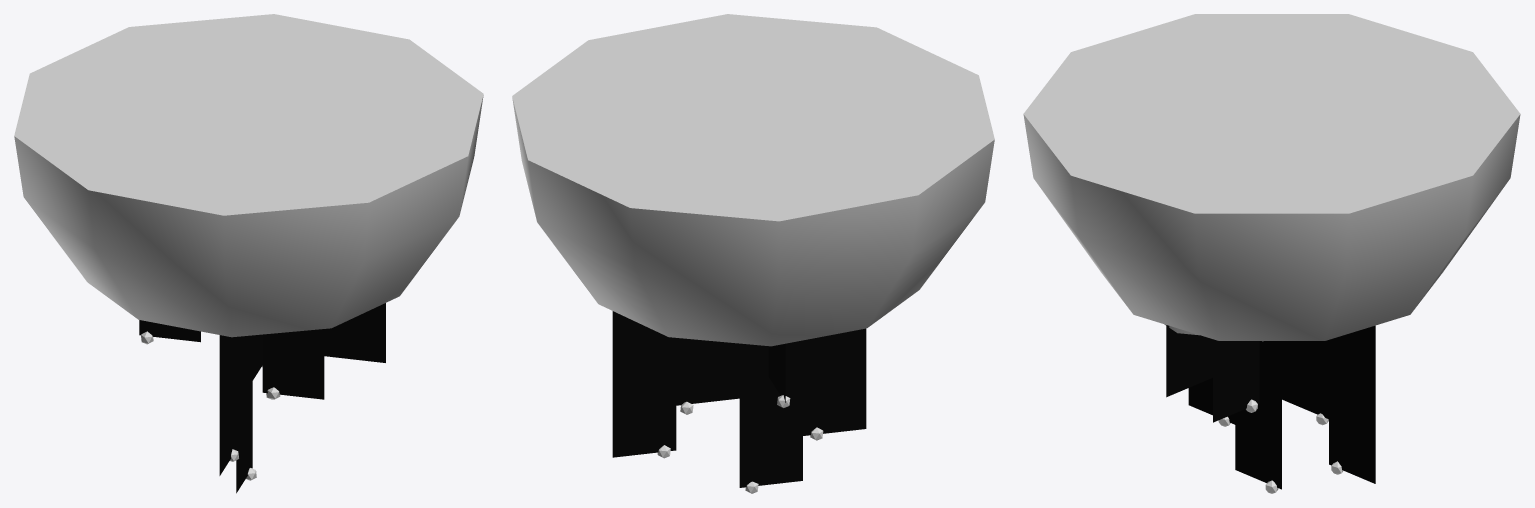
Rendered from MicroIsland.fbx.
The picture shows the model from 3 angles, left to right: view 1: azimuth 30°, elevation 25°; view 2: azimuth 150°, elevation 25°; view 3: azimuth 270°, elevation 25°; orthographic projection. The views are drawn at different scales.
Visible parts, largest first — view 1: MicroIsland_LOD0, SmallBellString; view 2: MicroIsland_LOD0, SmallBellString; view 3: MicroIsland_LOD0, SmallBellString.
Boxes of the visible parts, x1,y1,x2,y2 form: MicroIsland_LOD0: (14, 14, 483, 480); SmallBellString: (139, 303, 385, 493); MicroIsland_LOD0: (512, 14, 994, 493); SmallBellString: (612, 311, 866, 487); MicroIsland_LOD0: (1023, 14, 1520, 493); SmallBellString: (1166, 325, 1375, 489).
Size of what is drawn, in the model's own units: 380 by 337 by 400.
